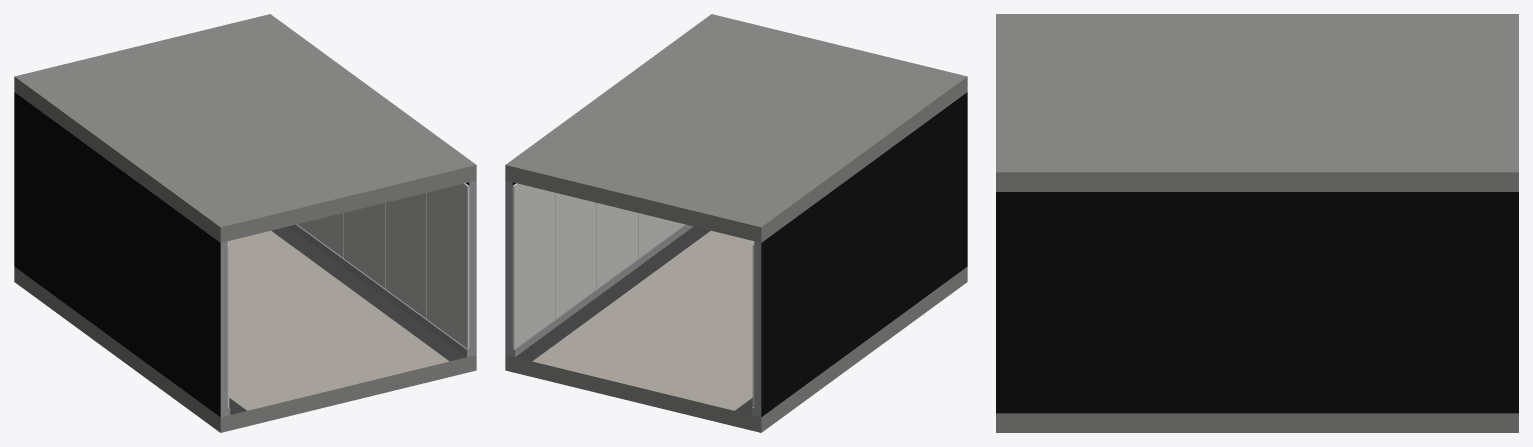
The model's file is gteki_passage_straight_w4_l6.glb.
The picture shows the model from 3 angles, left to right: view 1: azimuth 30°, elevation 25°; view 2: azimuth 150°, elevation 25°; view 3: azimuth 270°, elevation 25°; orthographic projection. The views are drawn at different scales.
Parts seen in each view (by area): view 1: VIS_body; view 2: VIS_body; view 3: VIS_body.
Part boxes in pixels (<box>): VIS_body: <box>14,14,476,432</box>; VIS_body: <box>505,14,967,432</box>; VIS_body: <box>996,14,1518,432</box>.
Size of what is drawn, in the model's own units: 4.3 by 3.3 by 6.
1 material, 1 textured.
